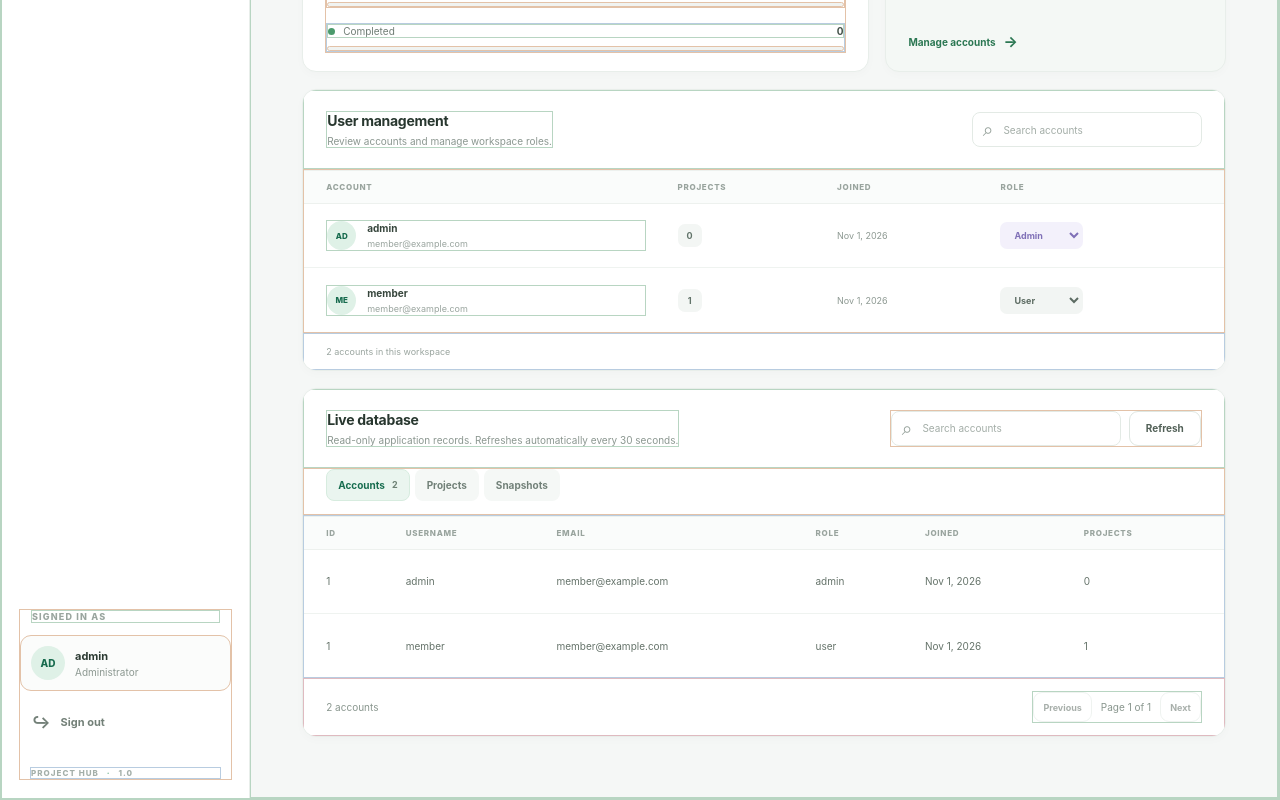
workspace access and project actions › lets administrators inspect live projects and snapshots
(page scrolled)
Expected: the heading "Live database" is shown, x1=327 y1=411 x2=419 y2=428
What coordinates should you click on to do the following:
click the button "Projects"
I would click on:
 (447, 485)
Its box is x1=415 y1=469 x2=479 y2=501.
(page scrolled)
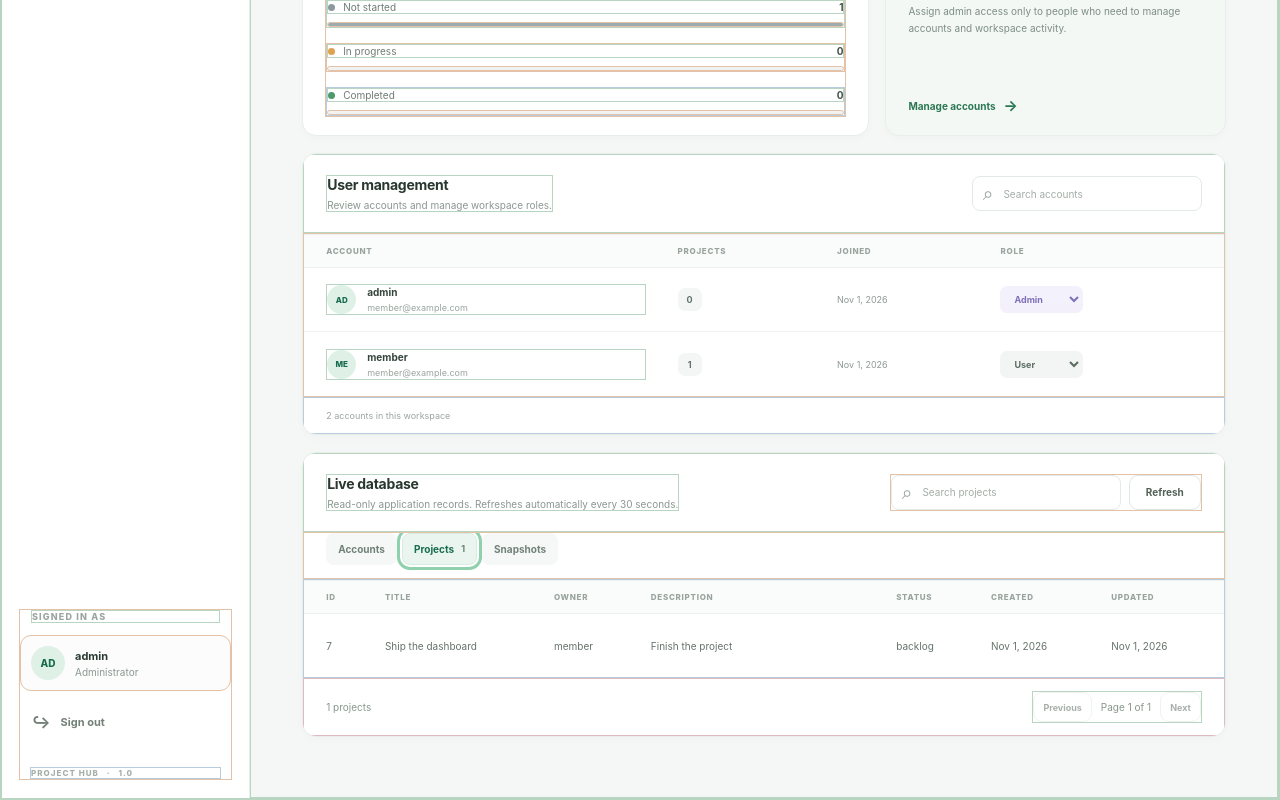
Expected: the text "Ship the dashboard" is shown, x1=369 y1=613 x2=538 y2=677
Expected: the text "Finish the project" is shown, x1=635 y1=613 x2=880 y2=677
What coordinates should you click on to do the following:
click the button "Snapshots"
I would click on:
 (520, 549)
Its box is x1=482 y1=533 x2=558 y2=565.
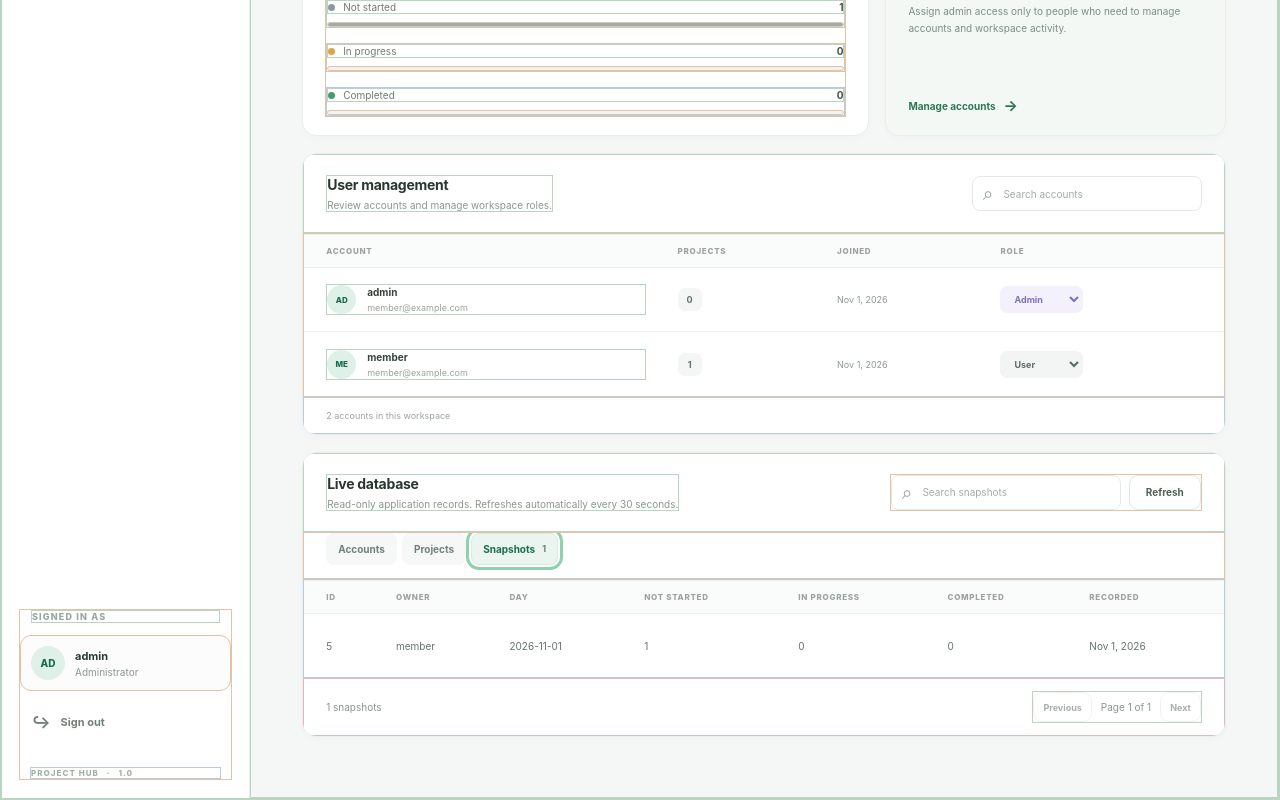
Expected: the text "2026-11-01" is shown, x1=493 y1=613 x2=628 y2=677
